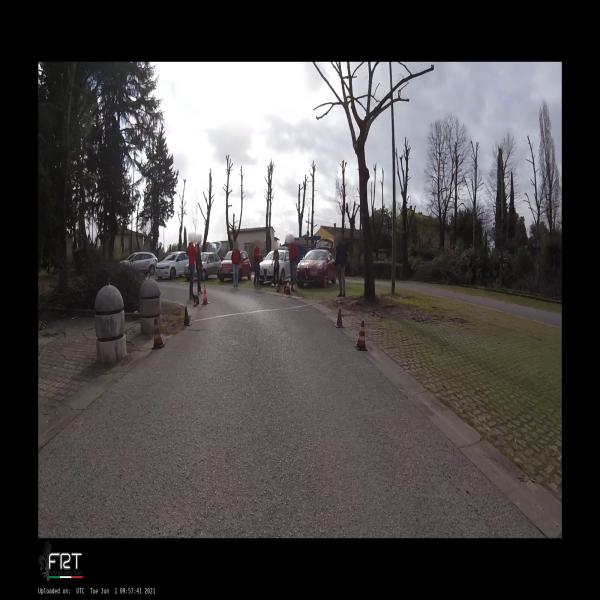large_orange_cone: (354, 320, 368, 351), (152, 319, 166, 348), (201, 284, 210, 305)
orange_cone: (286, 279, 290, 290)
unknown_cone: (334, 308, 344, 328), (183, 306, 192, 326), (194, 297, 200, 306)
